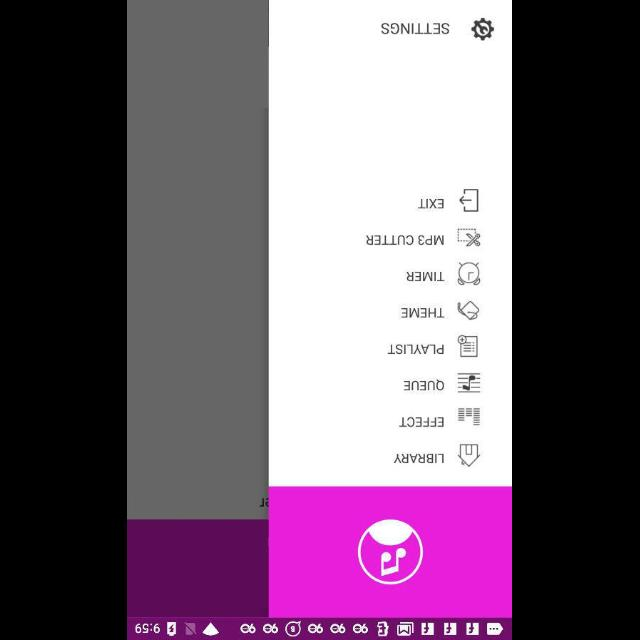icon: (457, 443, 481, 467), (458, 262, 480, 286), (471, 18, 495, 40), (458, 334, 478, 358), (459, 188, 479, 212)
image: (358, 518, 424, 584), (457, 372, 481, 394), (457, 406, 481, 426), (457, 228, 481, 248), (458, 300, 480, 320)
panel: (270, 0, 512, 618)
text: (382, 22, 451, 36), (366, 234, 446, 246), (388, 344, 444, 354), (394, 452, 444, 463), (400, 416, 444, 428), (403, 379, 445, 391), (406, 270, 446, 282), (401, 308, 445, 318), (418, 198, 444, 208)
uppertaskbar: (128, 617, 512, 639)
